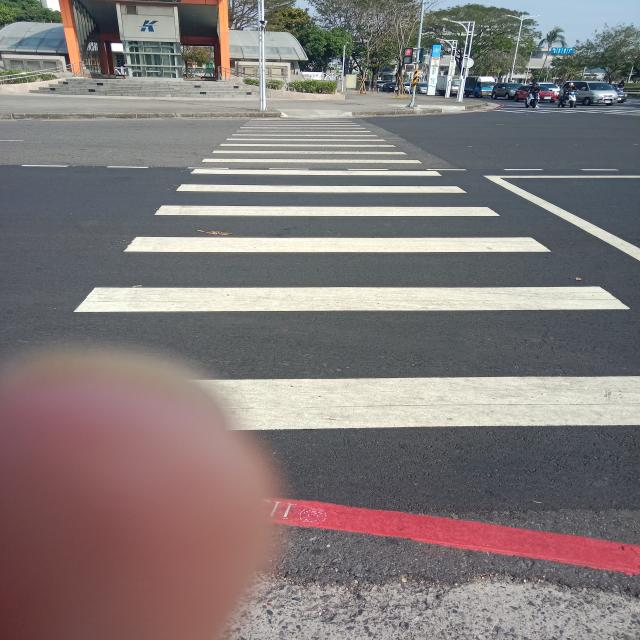zebra crossing: (70, 125, 640, 441), (491, 110, 640, 114)
